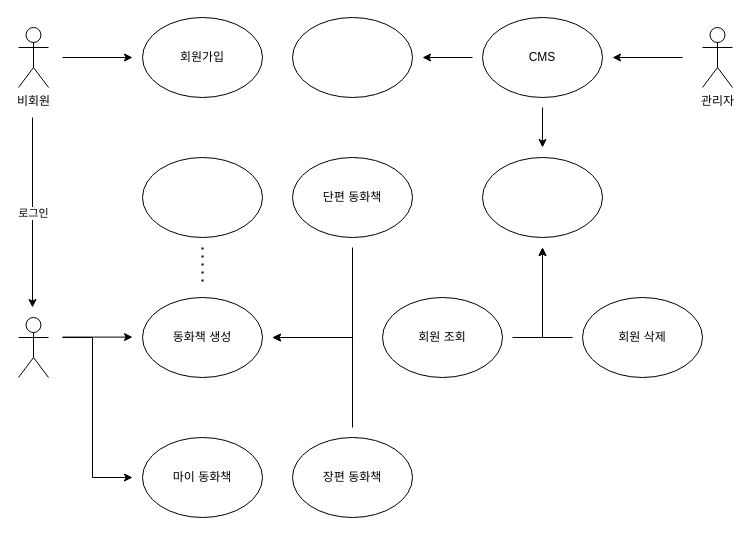
Image size: 751x535. Some labels were removed from this diagram. The shapes that lost their labels are listed below. From the top down, each one's centre as x and y in pixels, then its label:
At pixel 352 57: "사용자가 만든 동화책 조회".
At pixel 202 197: "AI".
At pixel 542 197: "회원 관리".
At pixel 33 347: "회원".
